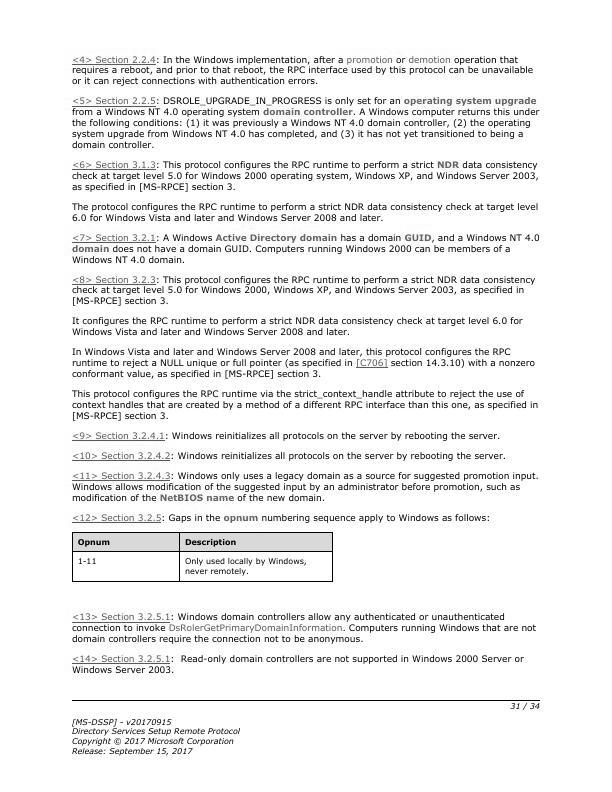table: (71, 532, 334, 584)
text: (69, 94, 540, 150), (69, 344, 537, 380), (68, 159, 540, 194), (71, 388, 539, 422), (70, 53, 534, 87), (70, 232, 541, 265), (71, 470, 540, 503), (71, 612, 539, 644), (71, 275, 538, 307), (70, 200, 541, 223), (73, 653, 527, 676), (70, 314, 526, 336), (68, 714, 244, 755), (69, 450, 507, 462), (70, 430, 503, 442), (69, 512, 493, 524)
